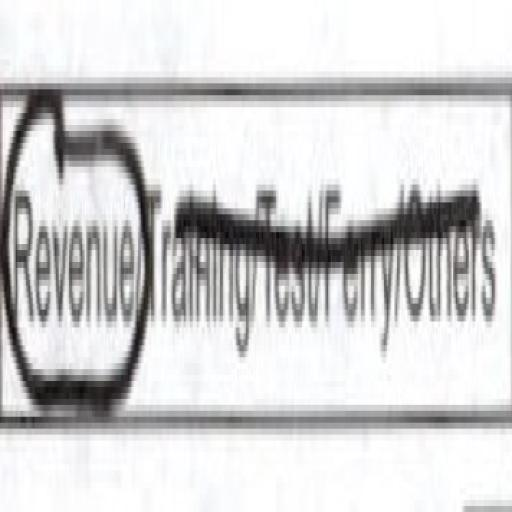check: (1, 48, 140, 479)
